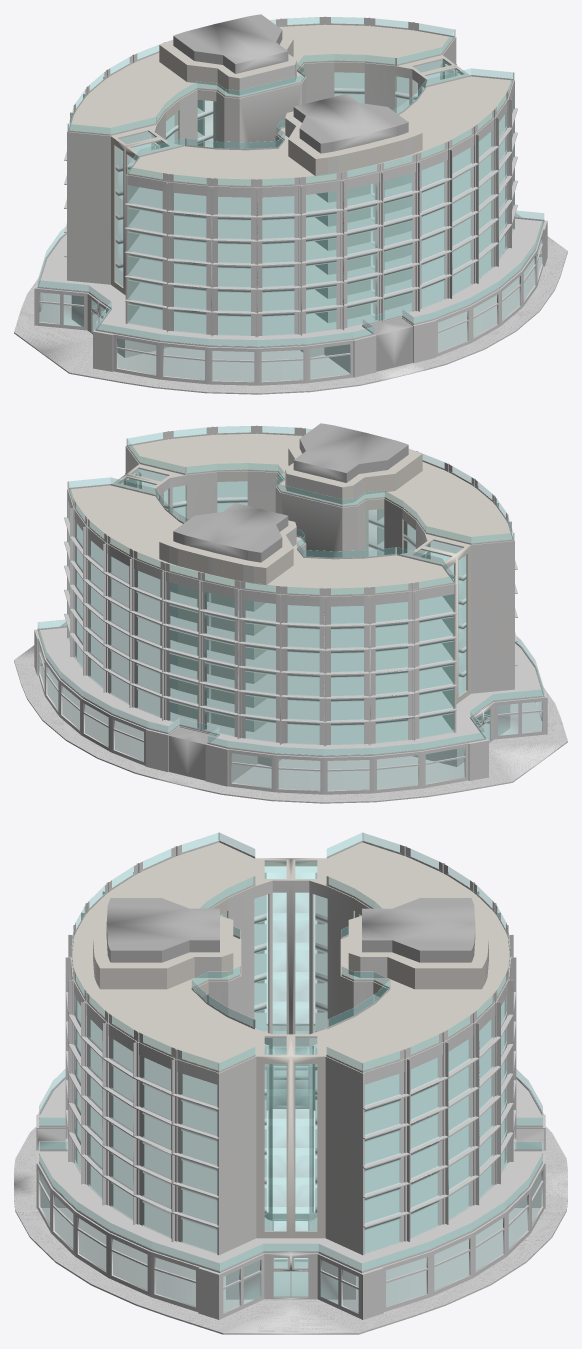
Rendered from Building.fbx.
The picture shows the model from 3 angles, top to bottom: view 1: azimuth 30°, elevation 25°; view 2: azimuth 150°, elevation 25°; view 3: azimuth 270°, elevation 25°; orthographic projection. The views are drawn at different scales.
Visible parts, largest first — view 1: instance_2.201, instance_2.128, instance_1.128, instance_0.128, instance_1.319, instance_3.128, instance_1.325, instance_1.189, instance_2.182, instance_3.182, instance_1.201, instance_1.160 (+150 smaller); view 2: instance_1.201, instance_1.128, instance_2.128, instance_3.128, instance_2.319, instance_0.128, instance_2.325, instance_2.189, instance_1.182, instance_0.182, instance_2.201, instance_2.160 (+150 smaller); view 3: instance_0.128, instance_3.128, instance_0.201, instance_3.201, instance_1.128, instance_2.128, instance_0.189, instance_3.189, instance_0.319, instance_3.319, instance_0.325, instance_3.325 (+104 smaller).
Boxes of the visible parts, x1,y1,x2,y2 form: instance_2.201: (39, 132, 124, 300); instance_2.128: (69, 40, 268, 134); instance_1.128: (129, 111, 376, 185); instance_0.128: (366, 76, 512, 168); instance_1.319: (117, 338, 349, 381); instance_3.128: (262, 24, 453, 89); instance_1.325: (118, 339, 349, 380); instance_1.189: (41, 340, 404, 394); instance_2.182: (154, 90, 270, 148); instance_3.182: (270, 62, 419, 147); instance_1.201: (98, 185, 376, 346); instance_1.160: (113, 334, 353, 385); instance_1.201: (457, 541, 542, 709); instance_1.128: (313, 449, 512, 543); instance_2.128: (205, 520, 452, 594); instance_3.128: (69, 485, 215, 577); instance_2.319: (232, 747, 464, 790); instance_0.128: (128, 433, 319, 498); instance_2.325: (232, 748, 463, 789); instance_2.189: (177, 749, 540, 803); instance_1.182: (311, 499, 427, 557); instance_0.182: (162, 471, 311, 556); instance_2.201: (205, 594, 483, 755); instance_2.160: (228, 743, 468, 794); instance_0.128: (72, 936, 254, 1070); instance_3.128: (327, 936, 509, 1070); instance_0.201: (39, 1057, 290, 1270); instance_3.201: (291, 1057, 542, 1270); instance_1.128: (72, 842, 254, 957); instance_2.128: (327, 842, 509, 957); instance_0.189: (14, 1184, 290, 1334); instance_3.189: (291, 1184, 567, 1334); instance_0.319: (40, 1173, 260, 1312); instance_3.319: (321, 1173, 541, 1312); instance_0.325: (41, 1176, 259, 1311); instance_3.325: (322, 1176, 540, 1311).
Bounding box in the file's own units: 7906 × 3239 × 6219.
